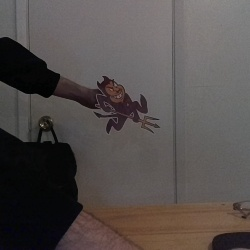sparky: (92, 74, 160, 134)
